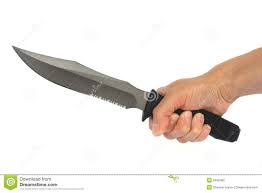knife: (10, 40, 243, 144)
